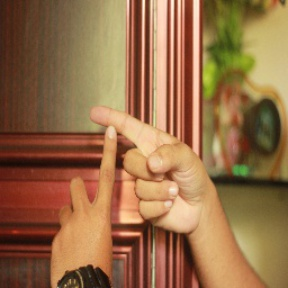T: (60, 95, 178, 220)
